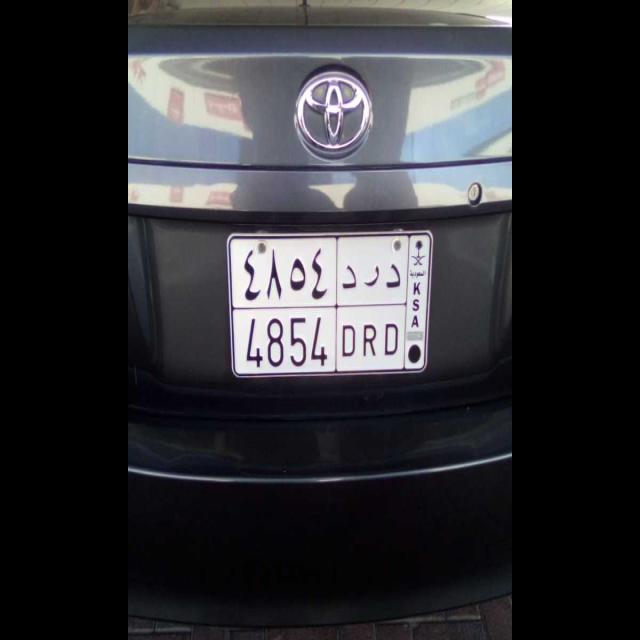license_plate: (234, 306, 406, 374)
